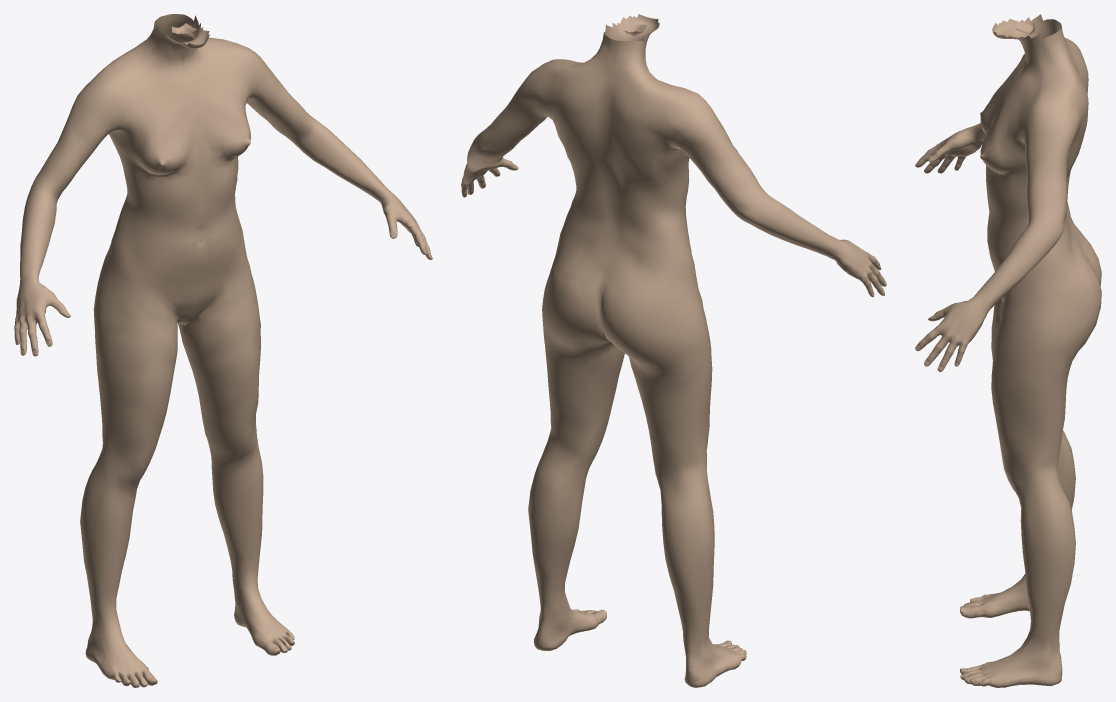
Rendered from body_female.obj.
3 renders of one model, left to right at view 1: azimuth 30°, elevation 25°; view 2: azimuth 150°, elevation 25°; view 3: azimuth 270°, elevation 25°, orthographic.
Visible parts, largest first — view 1: Body_female; view 2: Body_female; view 3: Body_female.
Part boxes in pixels (x1,y1,x2,y2): Body_female: [14, 14, 432, 687]; Body_female: [461, 14, 886, 687]; Body_female: [915, 14, 1101, 687].
Size of the model in its own units: 9.71 by 14.14 by 3.83.
